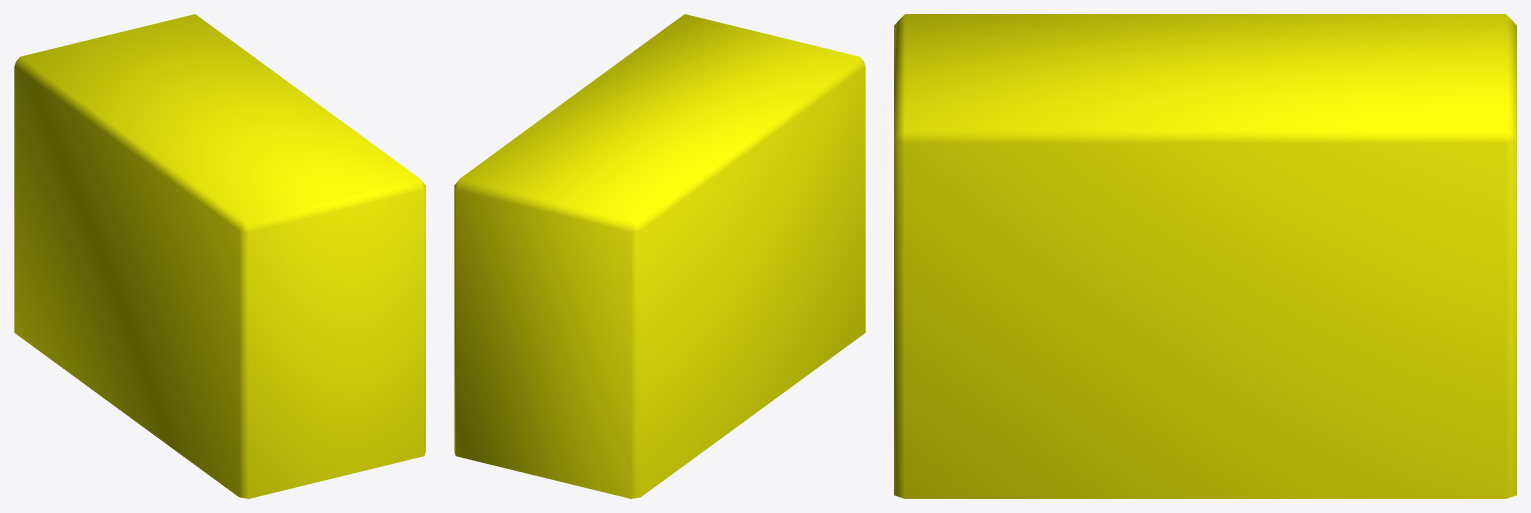
File: item_ammo_box.glb
The picture shows the model from 3 angles, left to right: view 1: azimuth 30°, elevation 25°; view 2: azimuth 150°, elevation 25°; view 3: azimuth 270°, elevation 25°; orthographic projection. The views are drawn at different scales.
Parts seen in each view (by area): view 1: item_ammobox; view 2: item_ammobox; view 3: item_ammobox.
Part boxes in pixels (x1,y1,x2,y2): item_ammobox: [14, 14, 425, 498]; item_ammobox: [454, 14, 865, 498]; item_ammobox: [894, 14, 1516, 498].
Size of the model in its own units: 0.3134 by 0.4412 by 0.6783.
Materials: 1 (1 with a texture image).
